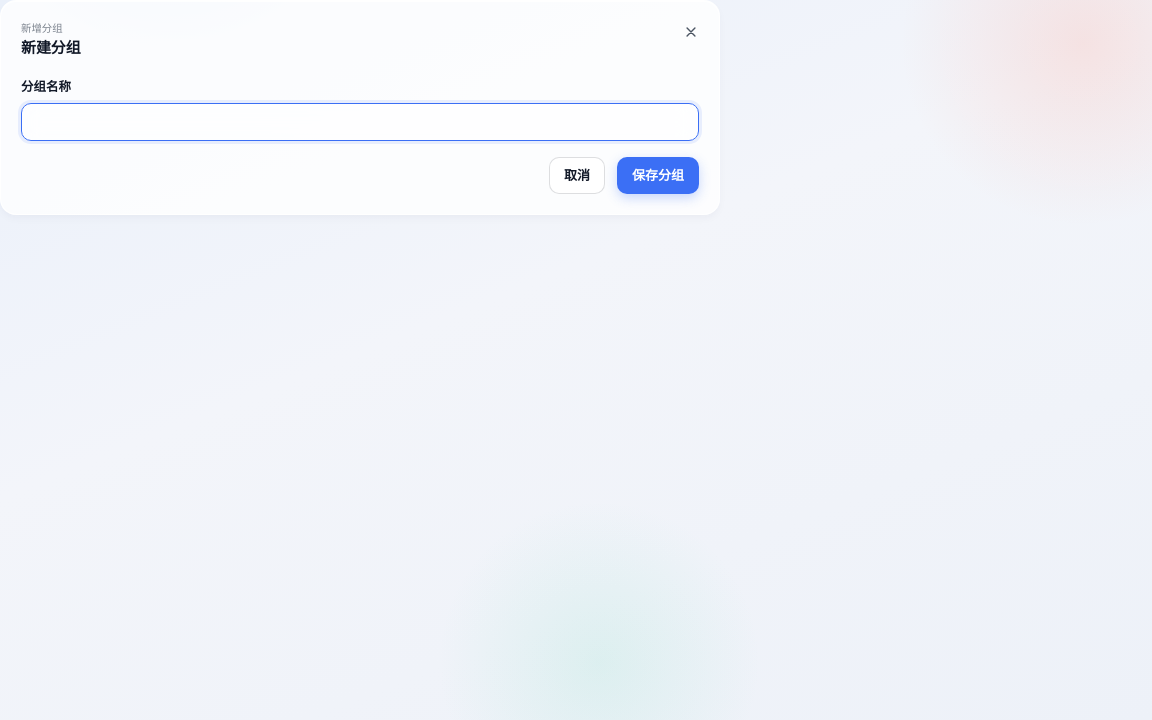
Task 6 dashboard components › prevents case-insensitive duplicate group names
Type "长期持仓 " into the field labelled "分组名称". click: [360, 122]
box: 21,103 -> 699,141
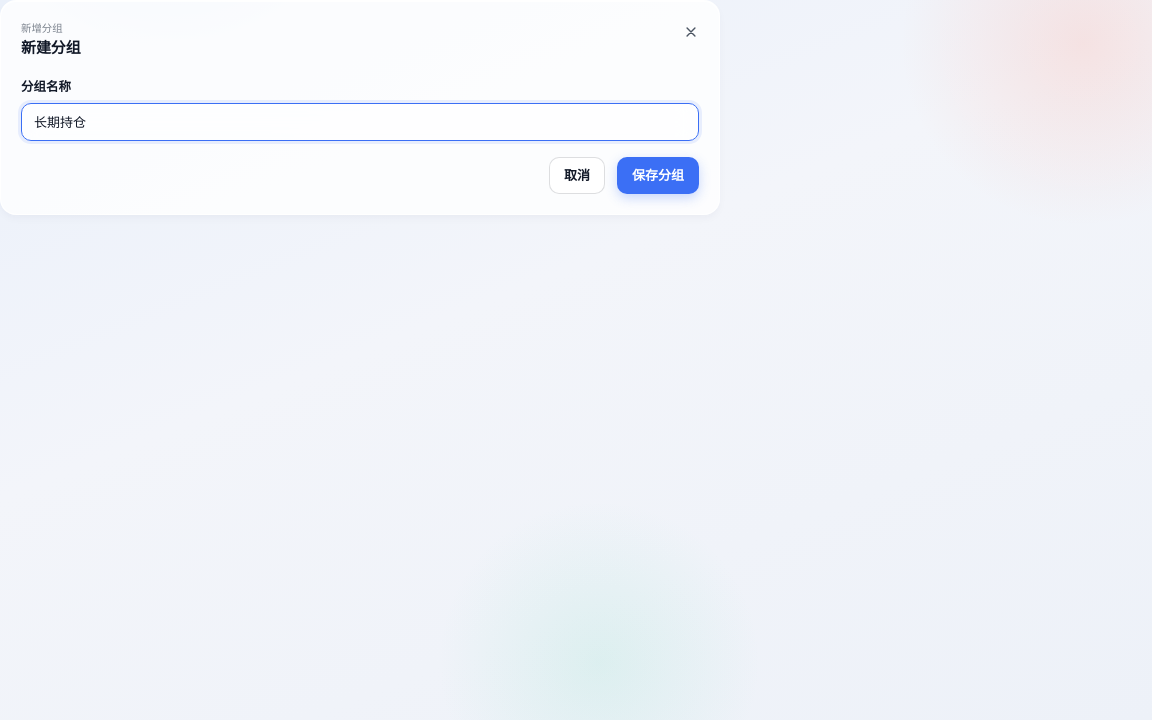
Click the button "保存分组". click: [658, 175]
box: 617,157 -> 699,194
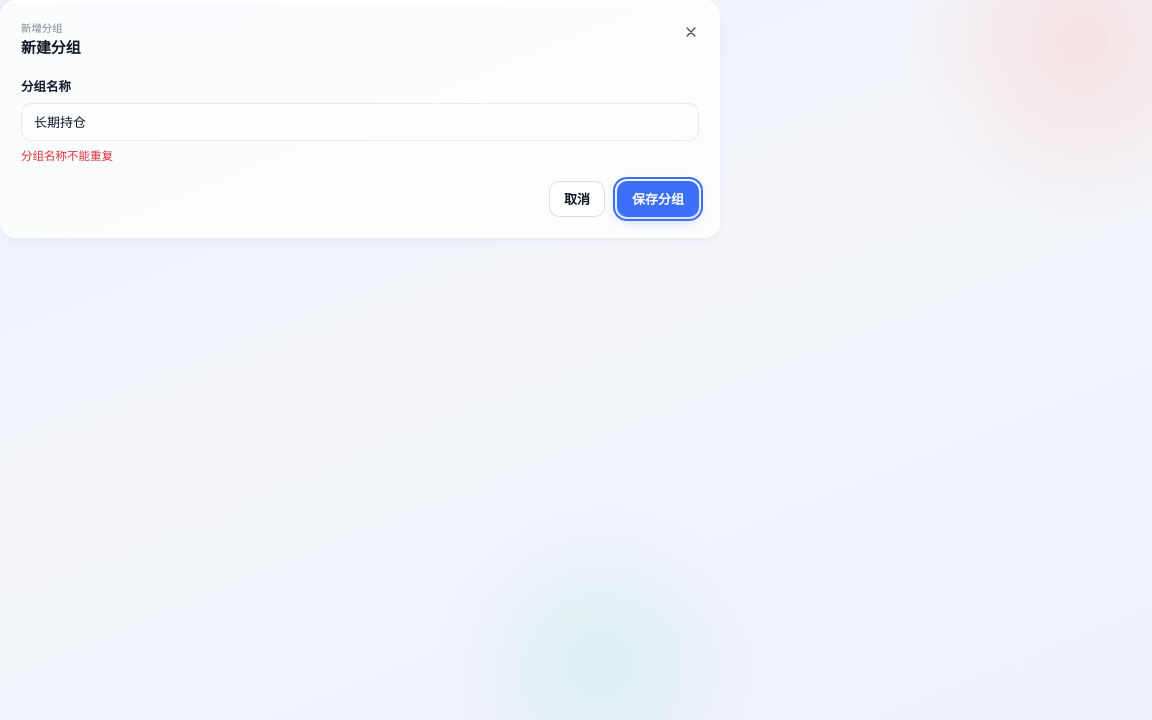
Expected: the text "分组名称不能重复" is shown, 21,149 -> 113,163
